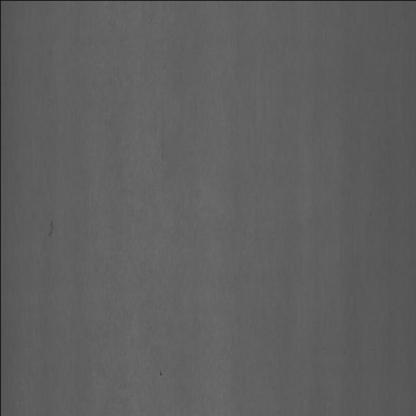inclusion: (40, 209, 56, 243), (150, 355, 166, 387)
